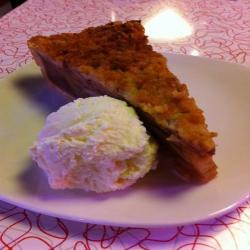apple_pie: (25, 23, 230, 191)
icecream: (29, 90, 167, 205)
